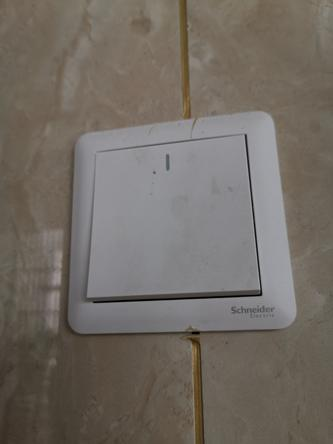switch: (80, 129, 271, 313)
